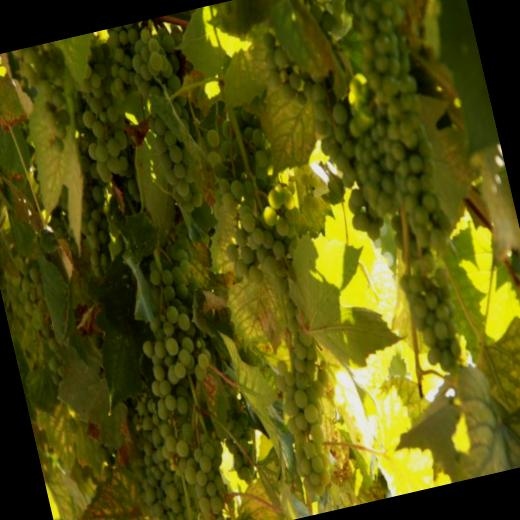Orange: (249, 0, 483, 401), (193, 92, 387, 511), (76, 219, 275, 520), (12, 14, 223, 284), (0, 253, 66, 394)
